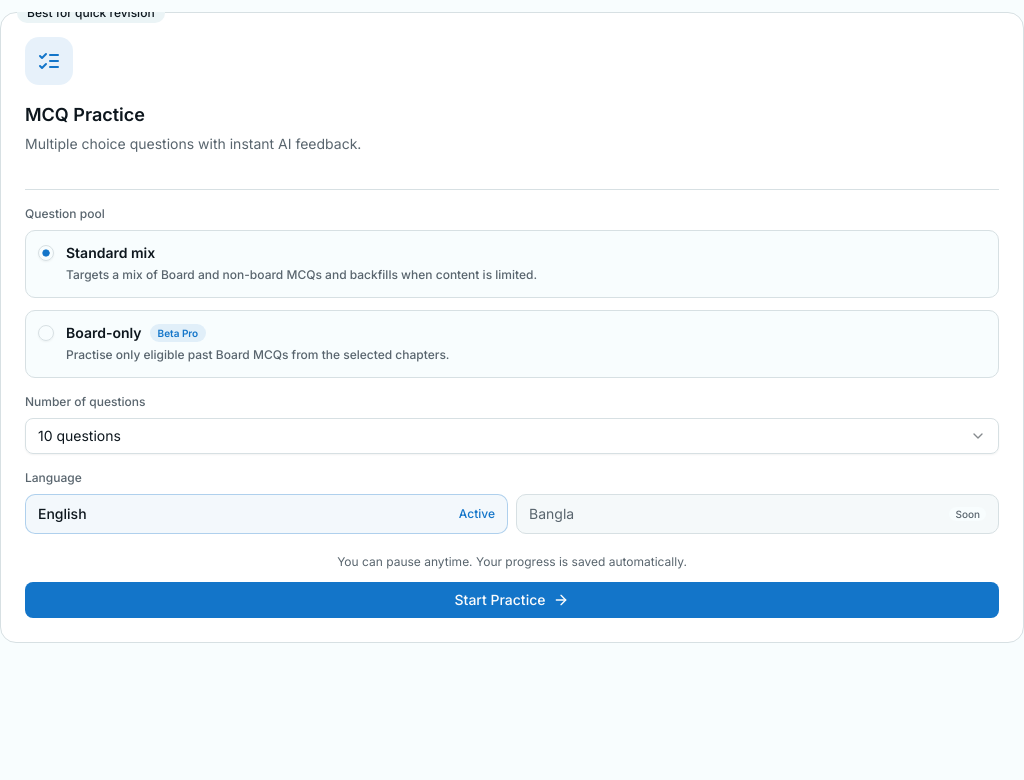
Scenario: PracticeConfigCard › offers only the supported Free counts
Click the dropdown named "Number of questions" at (79, 436), box [25, 418, 999, 454]
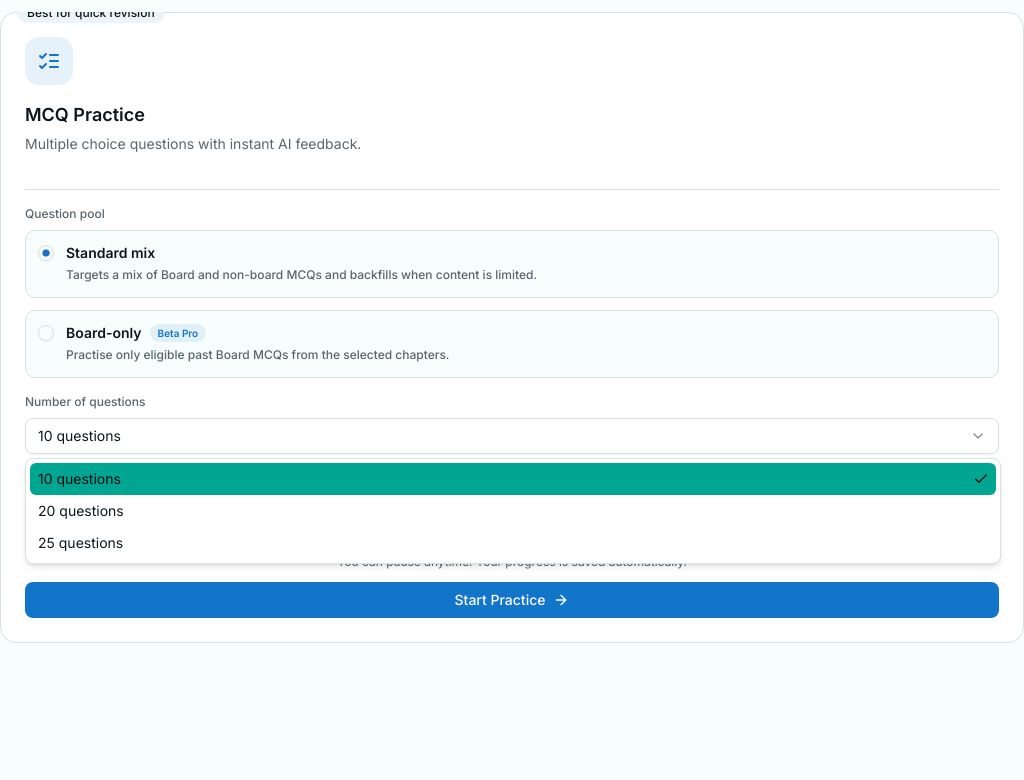
Result: the options read "10 questions", "20 questions", "25 questions", in this order at [30, 463, 996, 495]; [38, 502, 124, 519]; [38, 534, 123, 551]
